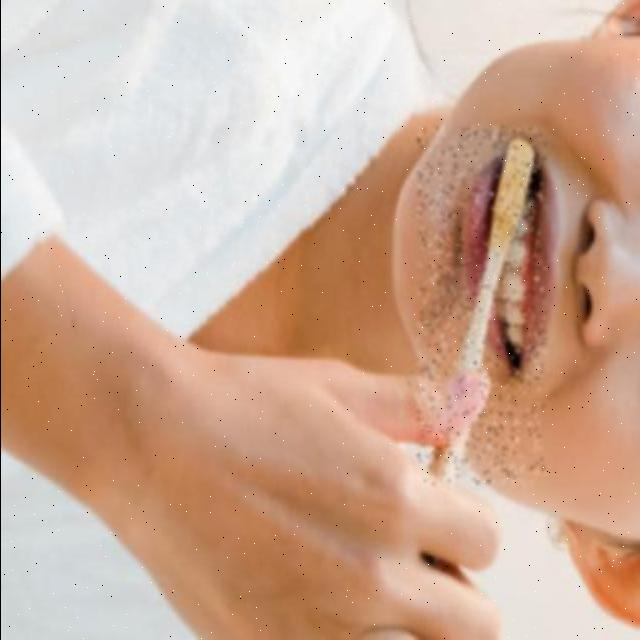toothbrush: (418, 126, 544, 484)
